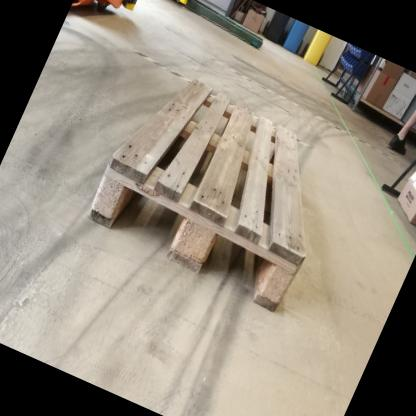BoxFace: (82, 71, 312, 321)
